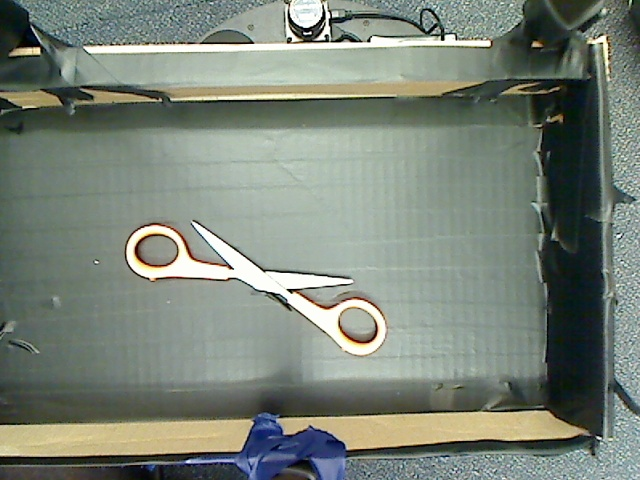scissors: (118, 211, 398, 371)
